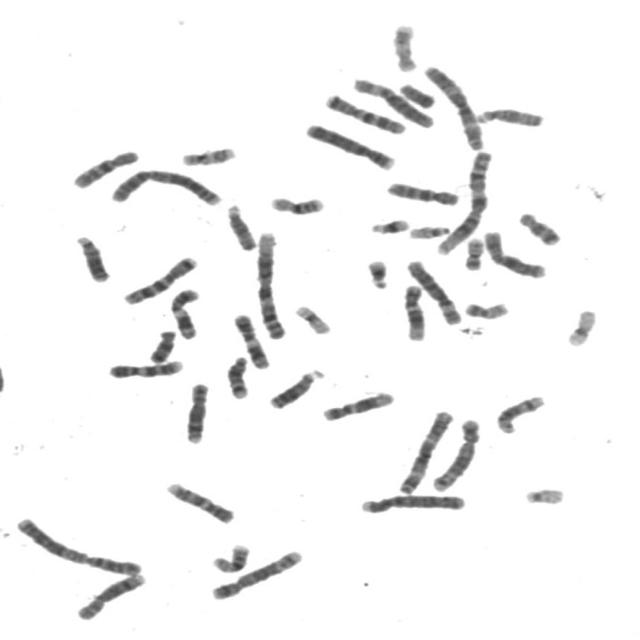A1: (431, 147, 494, 257), (250, 226, 288, 340)
A2: (10, 512, 146, 578), (103, 163, 225, 207)
A3: (418, 60, 488, 152), (392, 405, 458, 495)
B4: (299, 118, 398, 172), (354, 488, 468, 514)
B5: (206, 545, 305, 601), (426, 412, 482, 493)
C10: (66, 144, 142, 190), (381, 176, 462, 207)
C11: (227, 308, 272, 370), (165, 283, 202, 340)
C12: (316, 386, 397, 422), (397, 279, 428, 342)
C6: (347, 72, 438, 130), (400, 254, 464, 326)
C7: (116, 251, 200, 306), (320, 89, 408, 135)
C8: (70, 568, 148, 622), (178, 377, 212, 445)
C9: (160, 477, 237, 525), (103, 355, 186, 380)
D13: (263, 364, 326, 410), (69, 230, 112, 283)
D14: (491, 390, 547, 435), (220, 351, 252, 400)
D15: (220, 198, 259, 252), (470, 102, 546, 128)
E16: (264, 190, 328, 217), (206, 539, 252, 574)
E17: (386, 18, 421, 73), (175, 142, 238, 168)
E18: (512, 207, 564, 247), (142, 325, 178, 365)
F19: (560, 304, 599, 348), (288, 300, 334, 336)
F20: (458, 296, 512, 320), (458, 232, 486, 272)
G21: (361, 254, 392, 290), (364, 213, 411, 236)
G22: (518, 482, 567, 506), (404, 219, 452, 240)
X: (478, 226, 550, 280)
Y: (393, 78, 437, 109)
